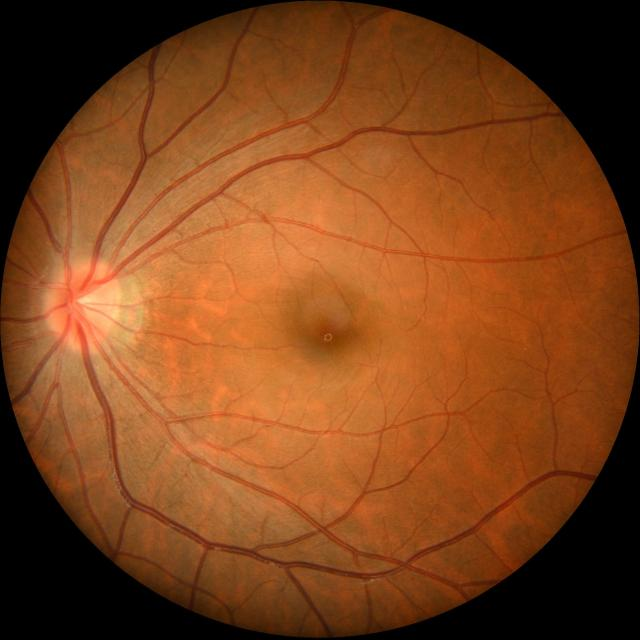OC: (74, 290, 96, 317)
OD: (46, 260, 120, 350)
